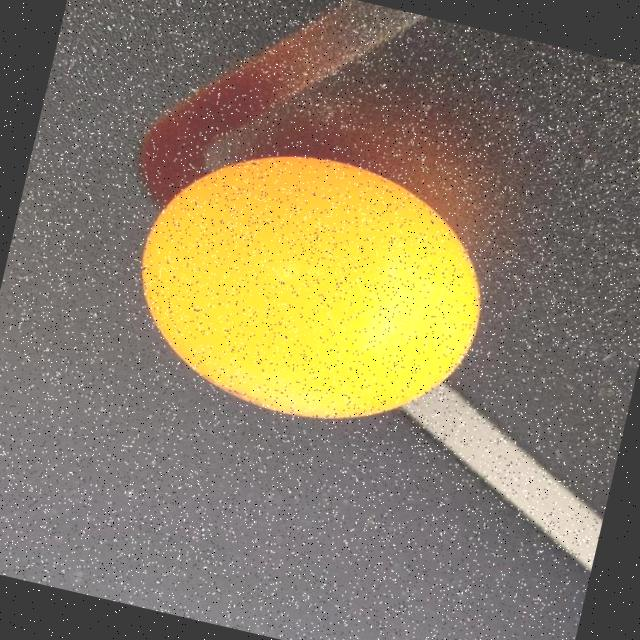ping-pong-ball: (99, 110, 508, 459)
